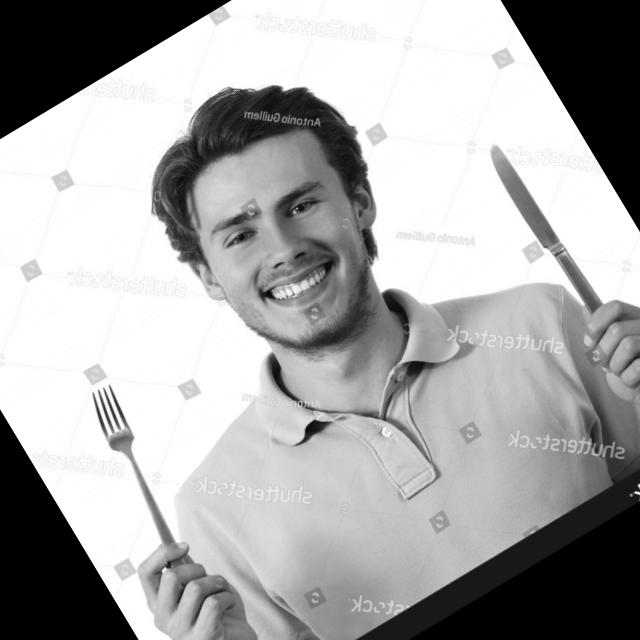fork: (66, 380, 228, 603)
